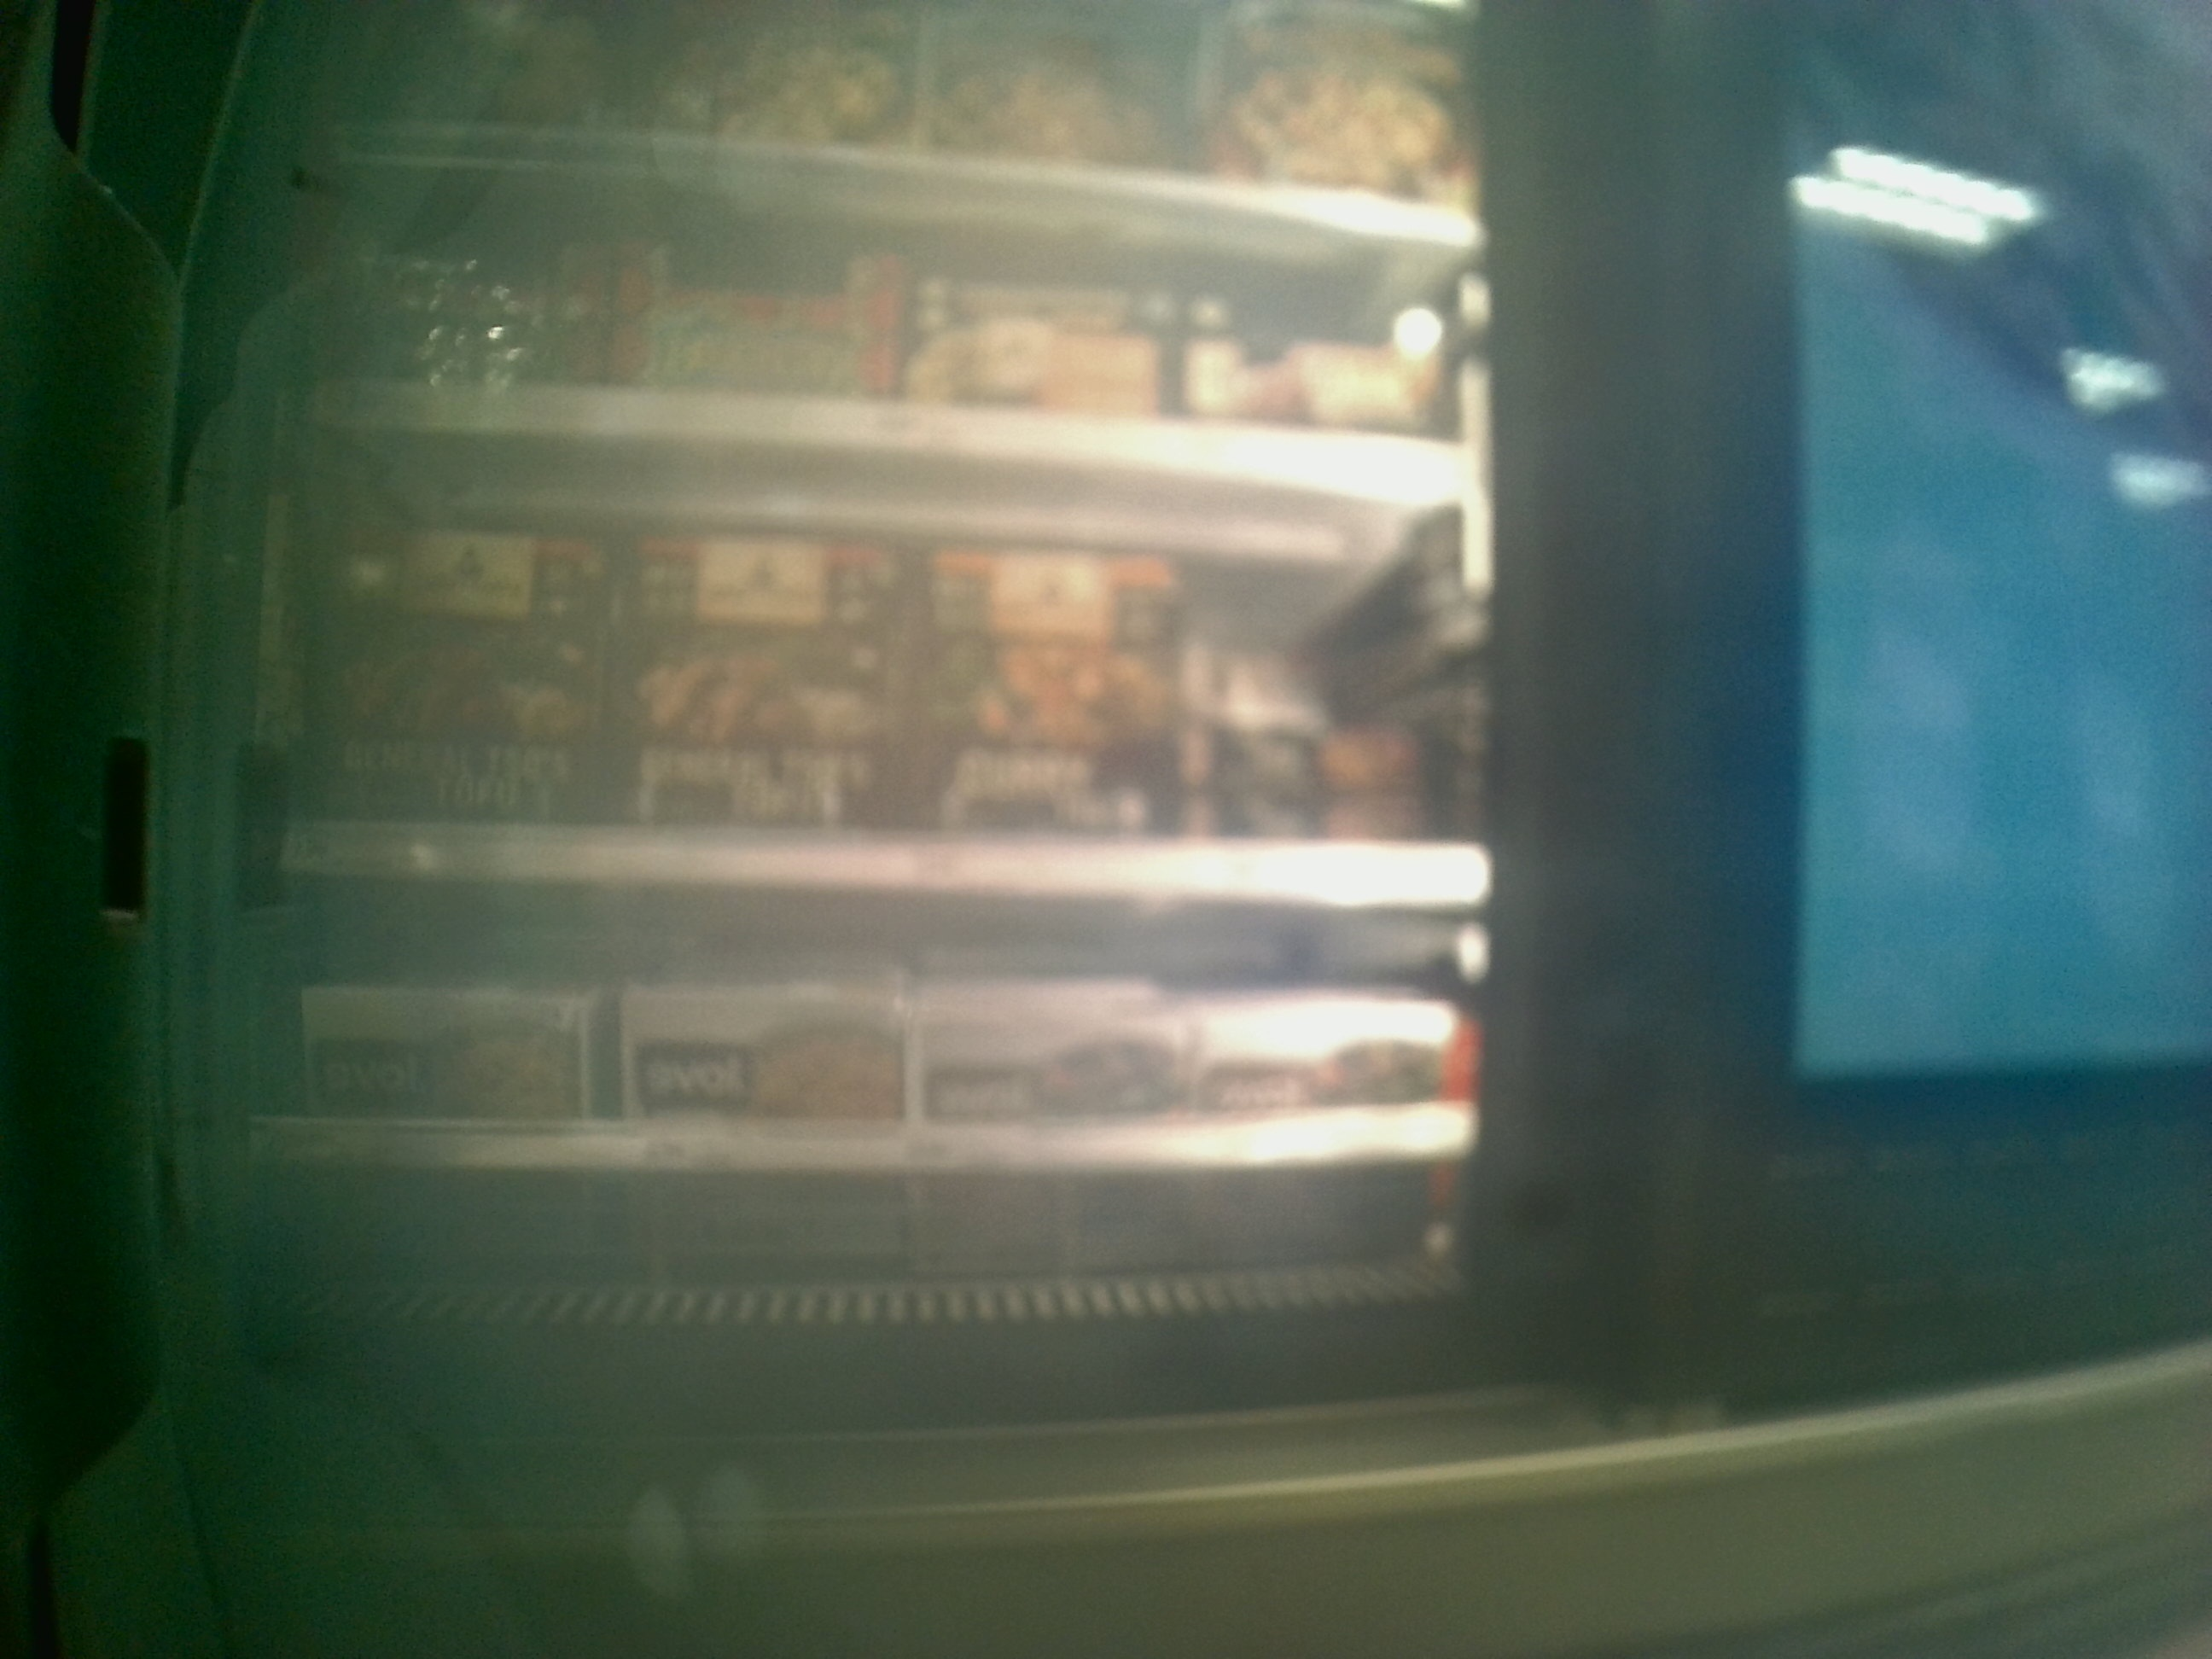frozen-food-shelf: (268, 505, 1505, 915), (240, 922, 1505, 1178)
